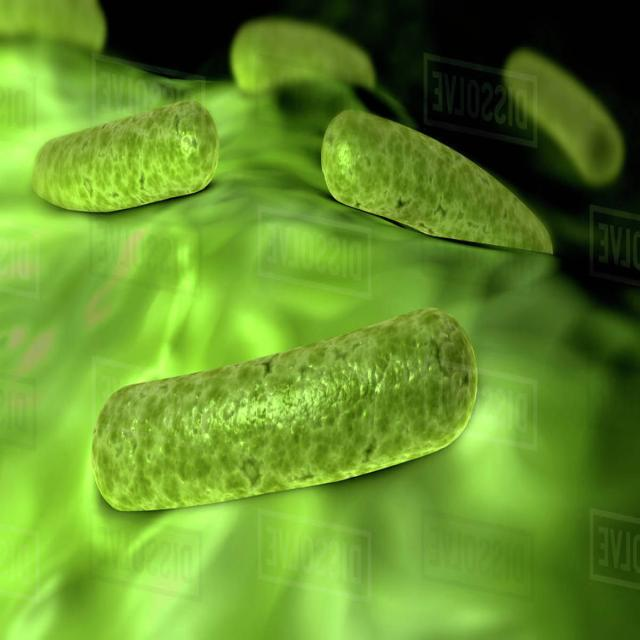Amoeba: (91, 304, 479, 512), (32, 96, 220, 215)
